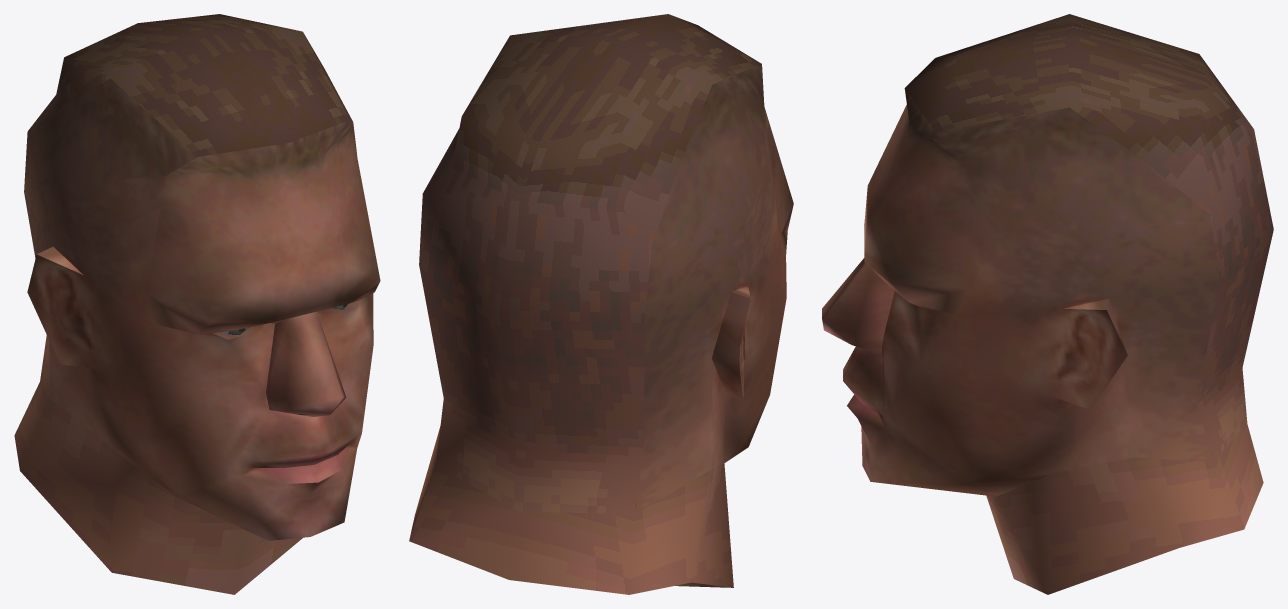
File: Cena_H.obj
The picture shows the model from 3 angles, left to right: view 1: azimuth 30°, elevation 25°; view 2: azimuth 150°, elevation 25°; view 3: azimuth 270°, elevation 25°; orthographic projection. The views are drawn at different scales.
Parts seen in each view (by area): view 1: Cena_H.001; view 2: Cena_H.001; view 3: Cena_H.001.
Boxes of the visible parts, left/top/right/bottom form: Cena_H.001: left=14, top=14, right=380, bottom=594; Cena_H.001: left=409, top=14, right=793, bottom=594; Cena_H.001: left=822, top=14, right=1273, bottom=594.
Bounding box in the file's own units: 1.94 × 3.31 × 2.51.
5 materials, 5 textured.
